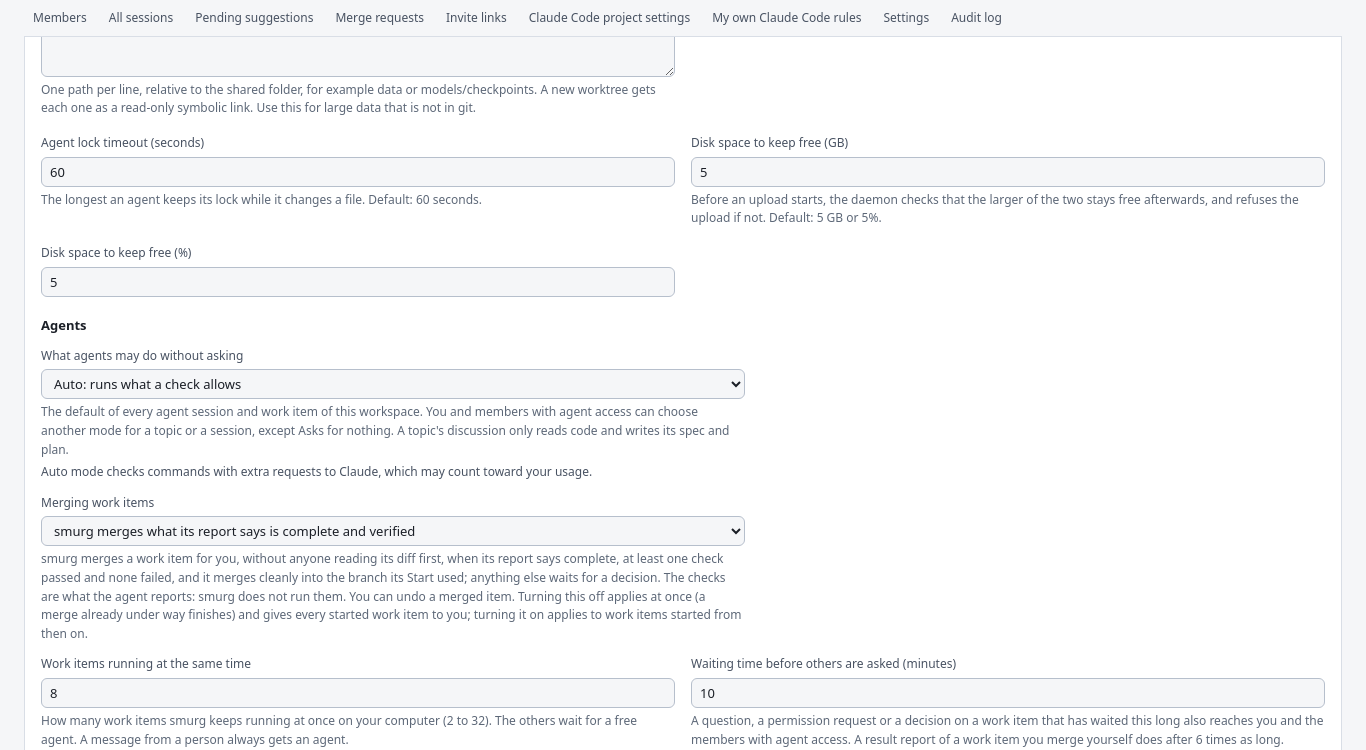
Test: host console: what agents may do without asking › the four modes; another than "Asks for nothing" applies as soon as it is chosen; auto says what its checks cost
(page scrolled)
Check: the text "The default of every agent session and work item of this workspace." is shown, box [41,404,730,458]
Check: the text "Auto mode checks commands with extra requests to Claude, which may count toward your usage." is shown, box [41,463,592,480]
Select "Asks before commands" in the dropdown labelled "What agents may do without asking" at (393,384), box [41,370,745,400]
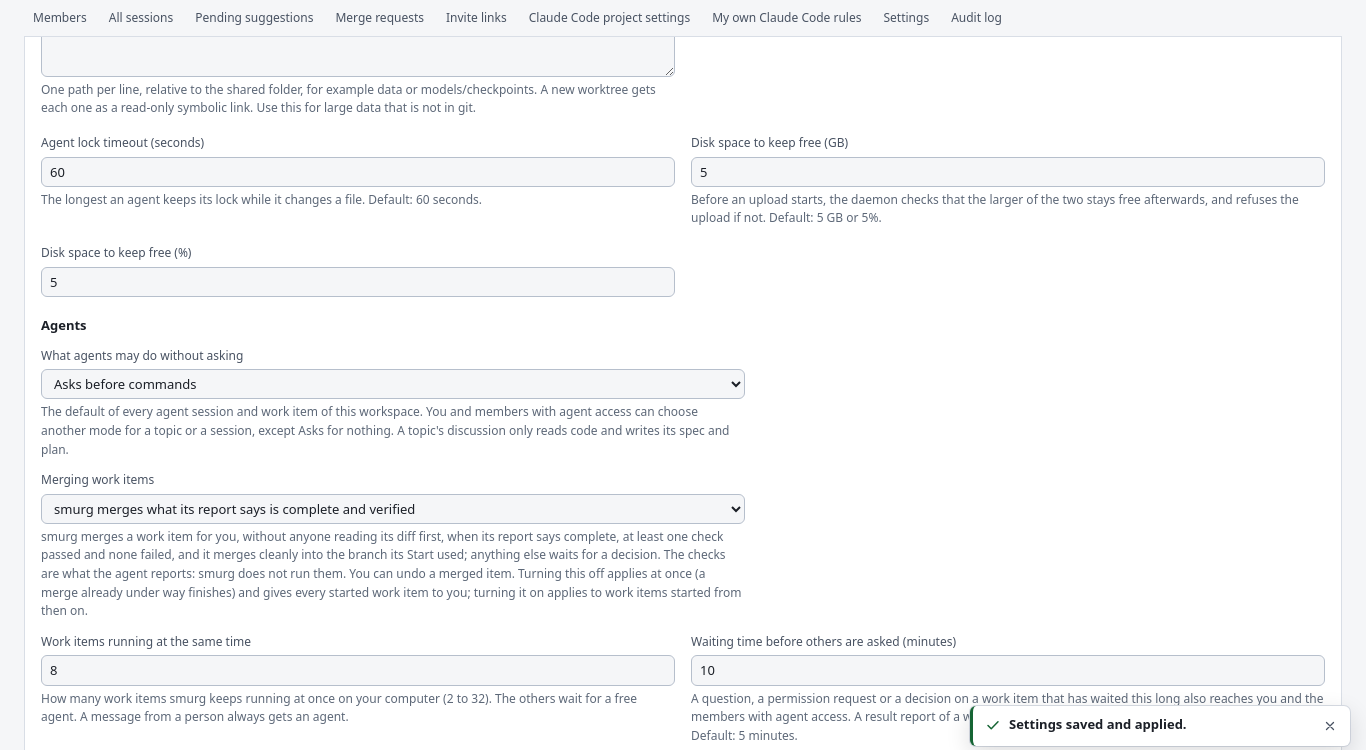
Check: the text "Settings saved and applied." is shown, box [1009,715,1187,733]
Check: the text "Auto mode checks commands" is gone
